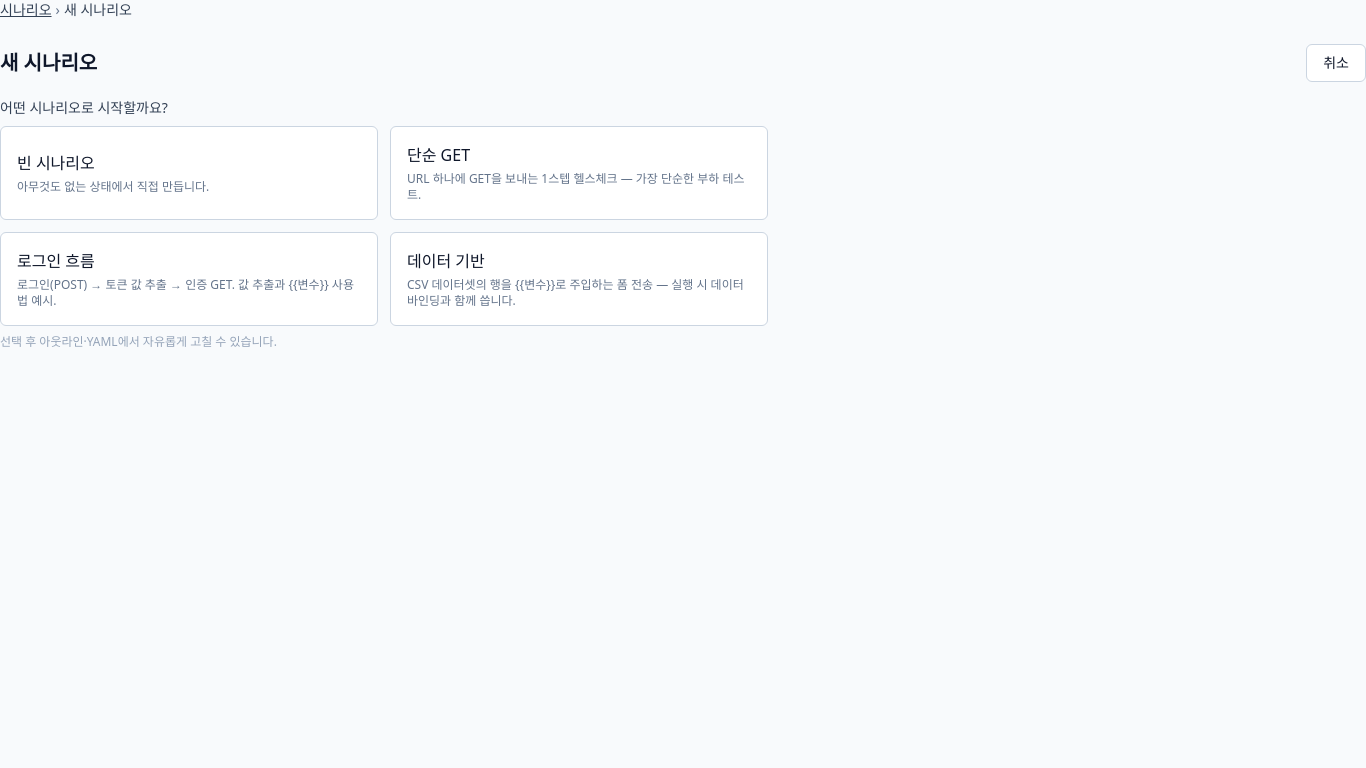
Test: ScenarioNewPage 이탈 가드 › dirty에서 취소 클릭 → window.confirm 없이 2버튼 다이얼로그, 잔류 (R1·R3·R8)
This screenshot has width=1366, height=768.
What coordinates should you click on to do the following:
click the button "단순 GET URL 하나에 GET을 보내는 1스텝 헬스체크 — 가장 단순한 부하 테스트."
I would click on:
 (579, 173)
Its box is top-left (390, 126), bottom-right (768, 220).
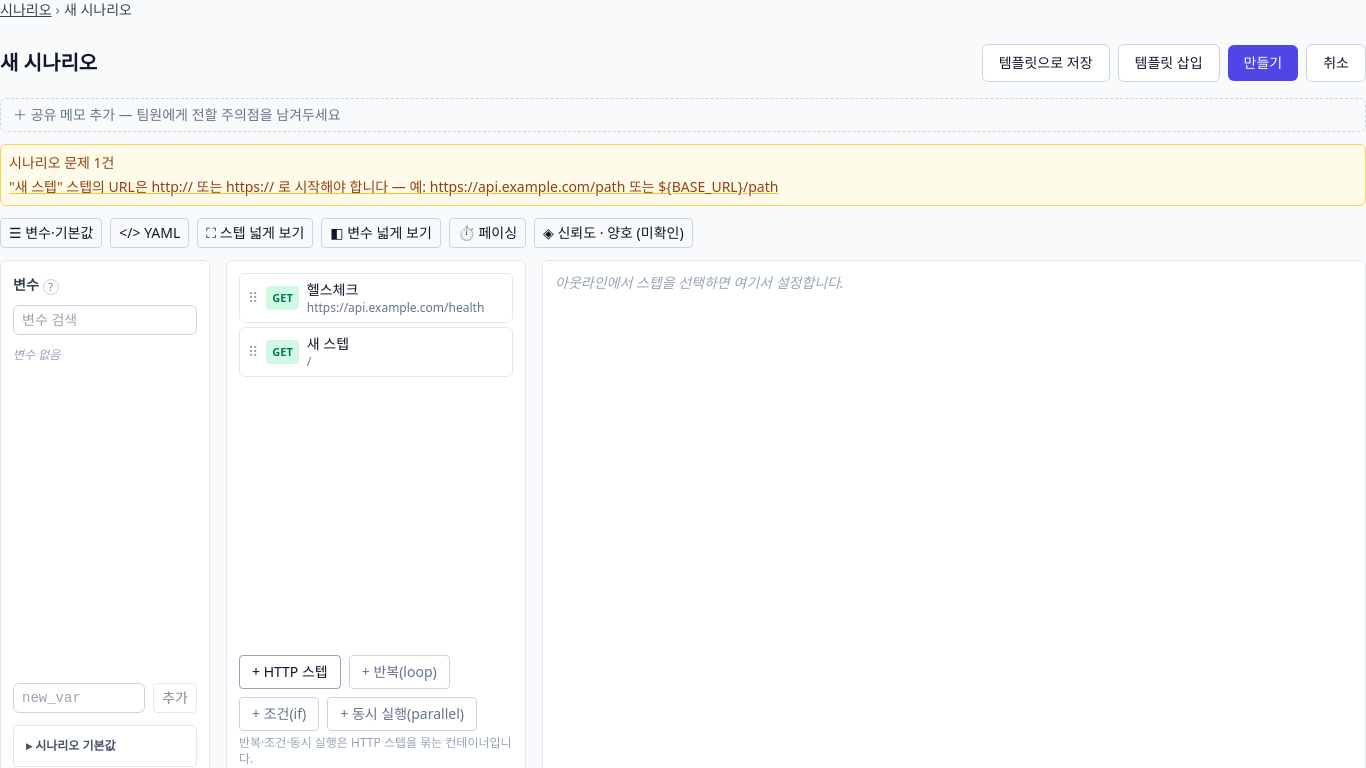
expect the button "만들기" is shown: met, box top-left (1228, 45), bottom-right (1298, 81)
What coordinates should you click on to do the following:
click the button "취소"
I would click on:
 (1336, 63)
Its box is top-left (1306, 44), bottom-right (1365, 82).
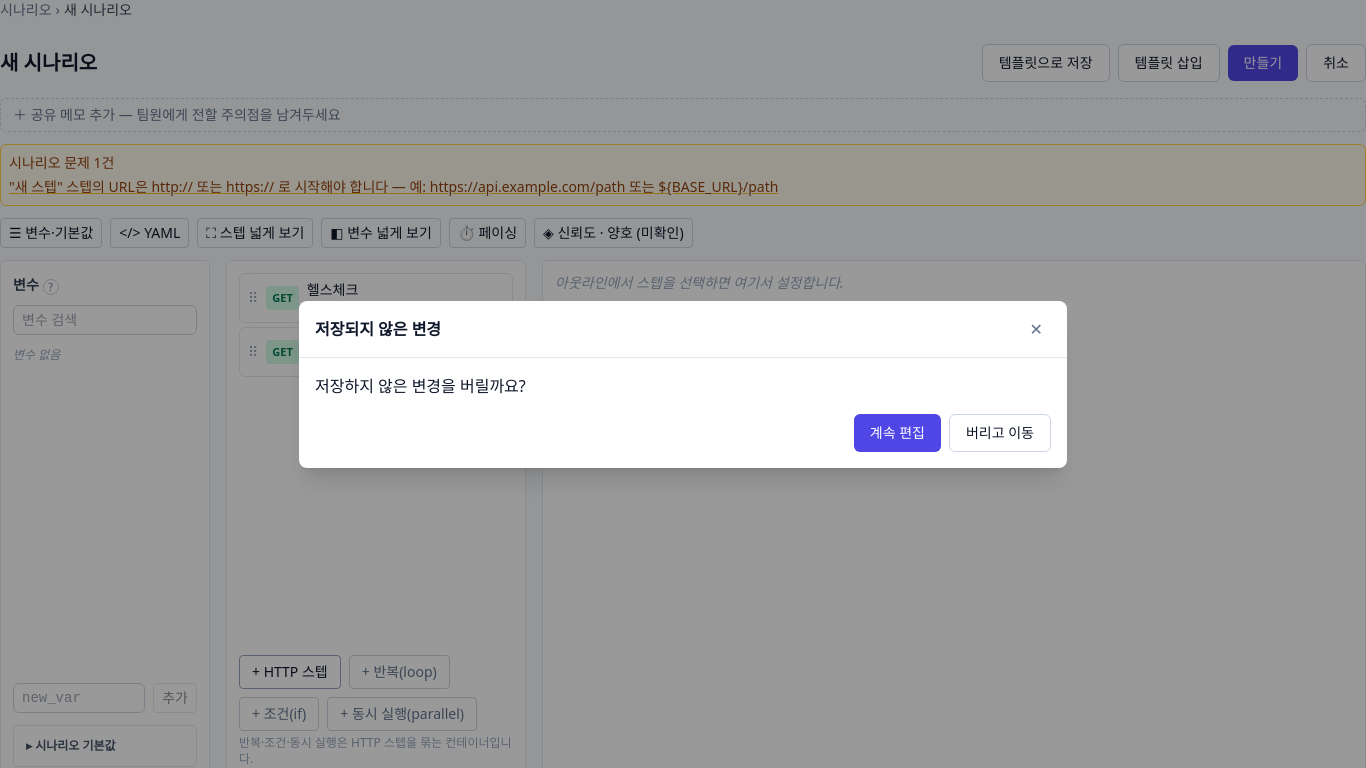
expect the dialog "저장되지 않은 변경" is shown: met, box top-left (299, 300), bottom-right (1067, 468)
expect the text "저장하지 않은 변경을 버릴까요?" is shown: met, box top-left (315, 374), bottom-right (526, 396)
expect the button "계속 편집" is shown: met, box top-left (854, 414), bottom-right (941, 452)
